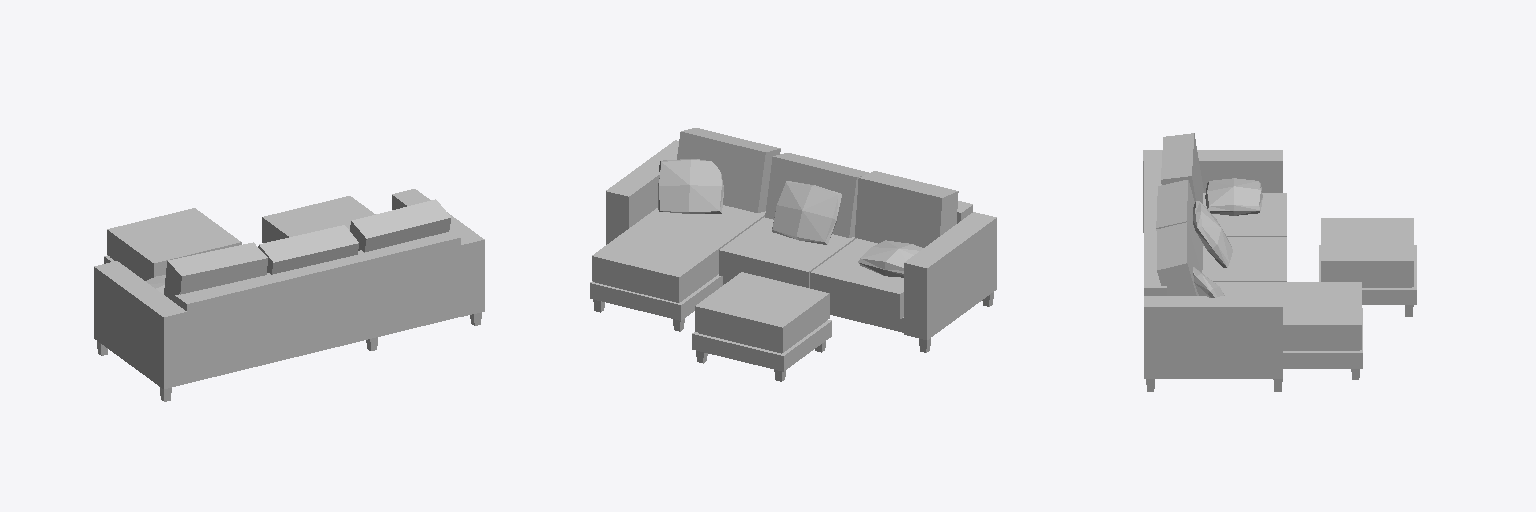
File: couch.obj
3 renders of one model, left to right at view 1: azimuth 30°, elevation 25°; view 2: azimuth 150°, elevation 25°; view 3: azimuth 270°, elevation 25°, orthographic.
Visible parts, largest first — view 1: group[number redacted], group[number redacted], group[number redacted], group[number redacted], group[number redacted], group[number redacted], group[number redacted], group[number redacted]; view 2: group[number redacted], group[number redacted], group[number redacted], group[number redacted], group[number redacted], group[number redacted], group[number redacted], group[number redacted], group[number redacted], group[number redacted], group[number redacted], group[number redacted] (+2 smaller); view 3: group[number redacted], group[number redacted], group[number redacted], group[number redacted], group[number redacted], group[number redacted], group[number redacted], group[number redacted], group[number redacted], group[number redacted], group[number redacted], group[number redacted] (+1 smaller).
Boxes of the visible parts, x1,y1,x2,y2 form: group[number redacted]: [175, 230, 460, 383]; group[number redacted]: [94, 261, 186, 388]; group[number redacted]: [104, 208, 241, 280]; group[number redacted]: [164, 242, 267, 302]; group[number redacted]: [350, 199, 450, 252]; group[number redacted]: [258, 225, 358, 274]; group[number redacted]: [262, 196, 375, 242]; group[number redacted]: [392, 189, 484, 316]; group[number redacted]: [692, 272, 831, 381]; group[number redacted]: [592, 205, 765, 302]; group[number redacted]: [904, 212, 996, 339]; group[number redacted]: [855, 171, 958, 247]; group[number redacted]: [719, 217, 856, 287]; group[number redacted]: [677, 128, 780, 212]; group[number redacted]: [810, 238, 903, 318]; group[number redacted]: [765, 153, 868, 237]; group[number redacted]: [658, 159, 723, 213]; group[number redacted]: [772, 181, 841, 244]; group[number redacted]: [606, 140, 678, 244]; group[number redacted]: [590, 274, 722, 320]; group[number redacted]: [1144, 296, 1282, 378]; group[number redacted]: [1319, 218, 1416, 316]; group[number redacted]: [1214, 282, 1361, 349]; group[number redacted]: [1202, 237, 1286, 281]; group[number redacted]: [1143, 150, 1282, 232]; group[number redacted]: [1156, 222, 1200, 295]; group[number redacted]: [1144, 154, 1166, 295]; group[number redacted]: [1203, 193, 1286, 236]; group[number redacted]: [1161, 133, 1203, 203]; group[number redacted]: [1205, 178, 1262, 215]; group[number redacted]: [1156, 180, 1203, 272]; group[number redacted]: [1283, 308, 1362, 368].
Bounding box in the file's own units: 1.86 × 0.6507 × 1.37.